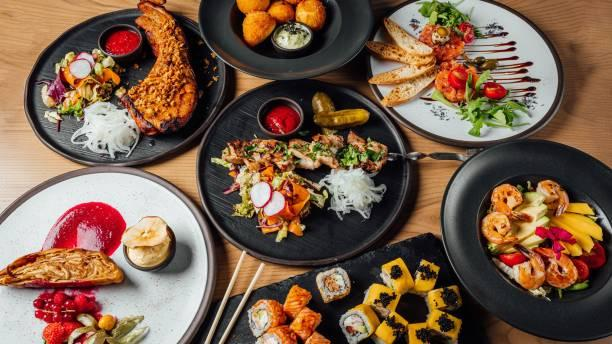Braised Crucian Carp: (197, 79, 409, 266), (0, 165, 214, 342), (441, 139, 612, 341), (200, 226, 481, 344), (23, 6, 223, 166), (369, 0, 565, 148), (197, 0, 371, 79)
